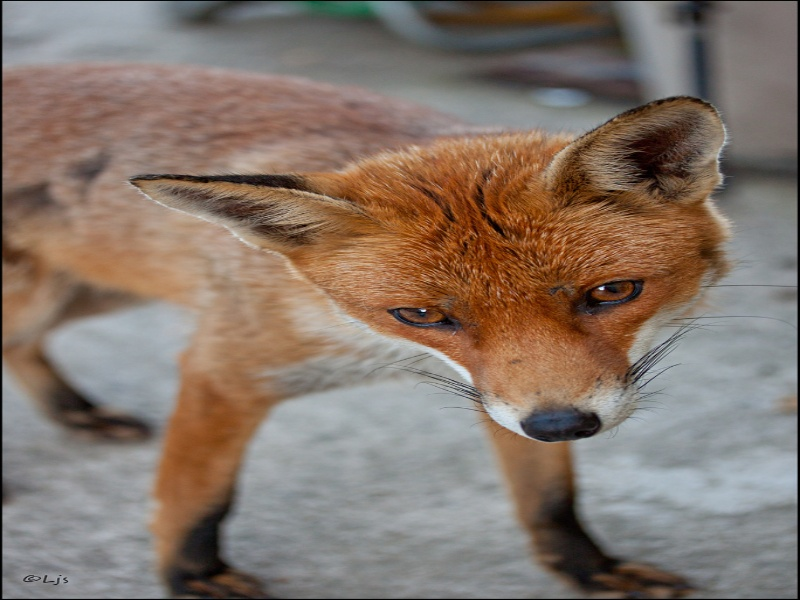fox: (1, 56, 739, 600)
